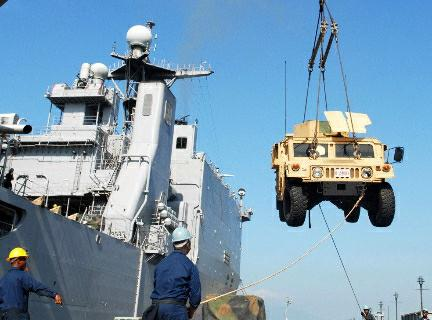悍马-H1: (267, 115, 404, 232)
